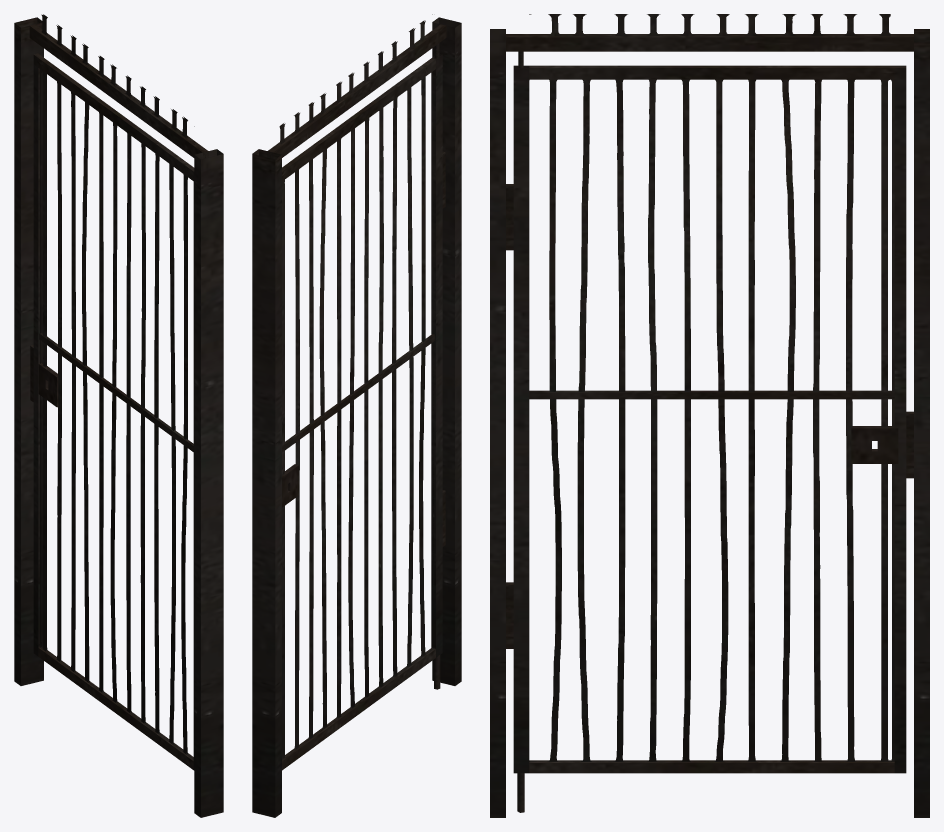
File: gate_door01a.glb
3 views of the same model, side by side, from view 1: azimuth 30°, elevation 25°; view 2: azimuth 150°, elevation 25°; view 3: azimuth 270°, elevation 25° (orthographic). The views are drawn at different scales.
Parts seen in each view (by area): view 1: 0_gate_door01a; view 2: 0_gate_door01a; view 3: 0_gate_door01a.
Part boxes in pixels (<box>): 0_gate_door01a: <box>14,14,223,817</box>; 0_gate_door01a: <box>252,14,461,817</box>; 0_gate_door01a: <box>490,14,929,817</box>.
Bounding box in the file's own units: 0.1013 × 2.84 × 1.42.
Materials: 1 (1 with a texture image).
